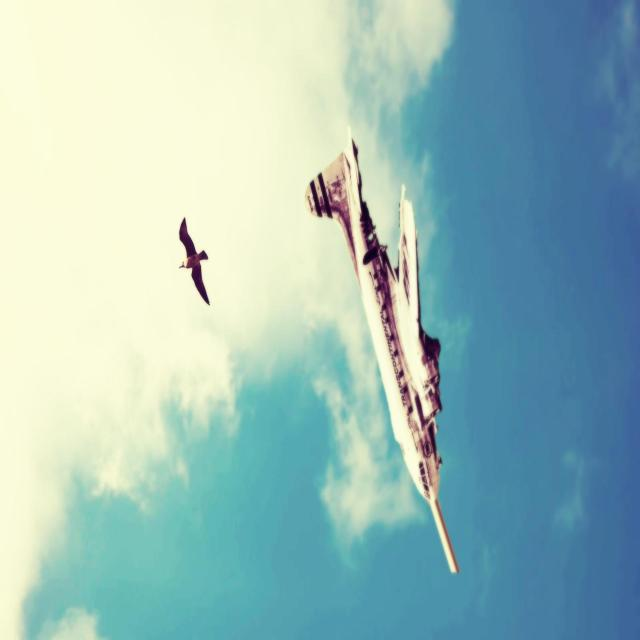airplane: (304, 124, 460, 574)
